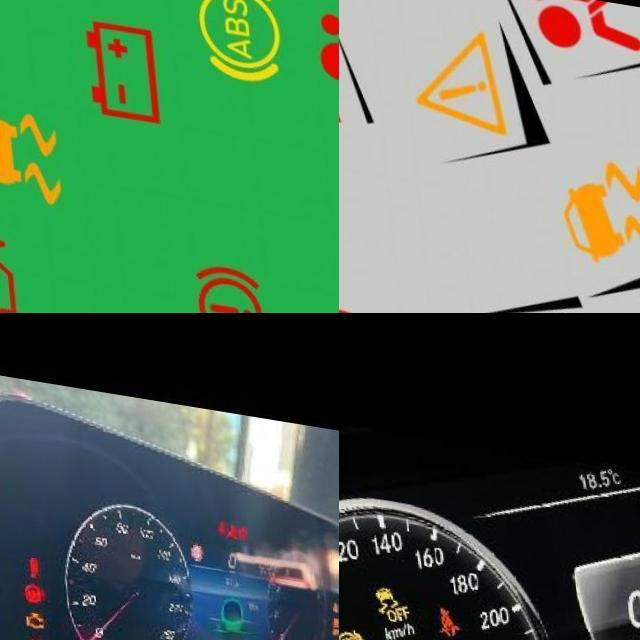Seat Belt: (213, 506, 222, 522)
